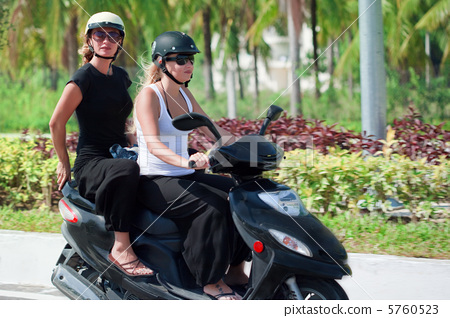helmet: (153, 33, 206, 62), (78, 10, 125, 40)
